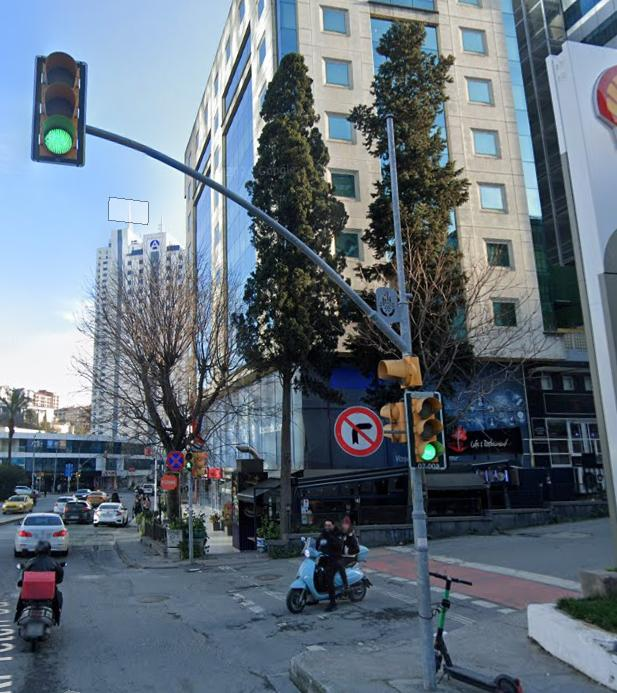greenlight: (33, 55, 81, 163), (410, 392, 445, 471)
rightturnsareforbidden: (336, 407, 383, 456)
